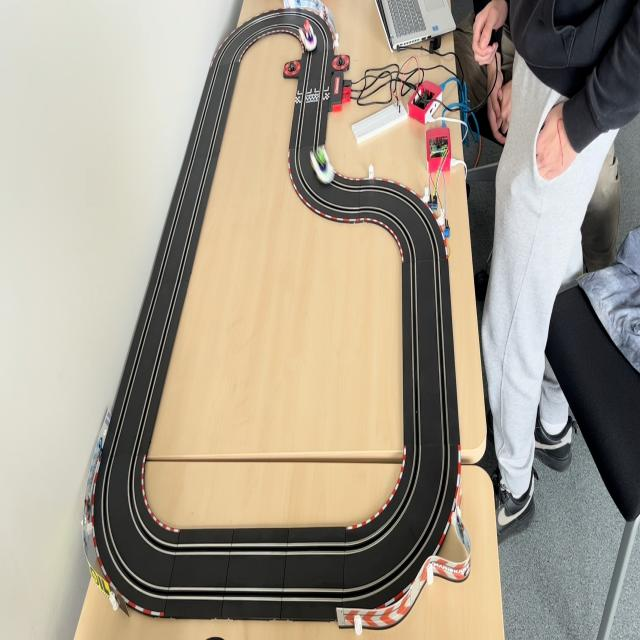mario: (300, 22, 319, 54)
yoshi: (308, 145, 338, 185)
